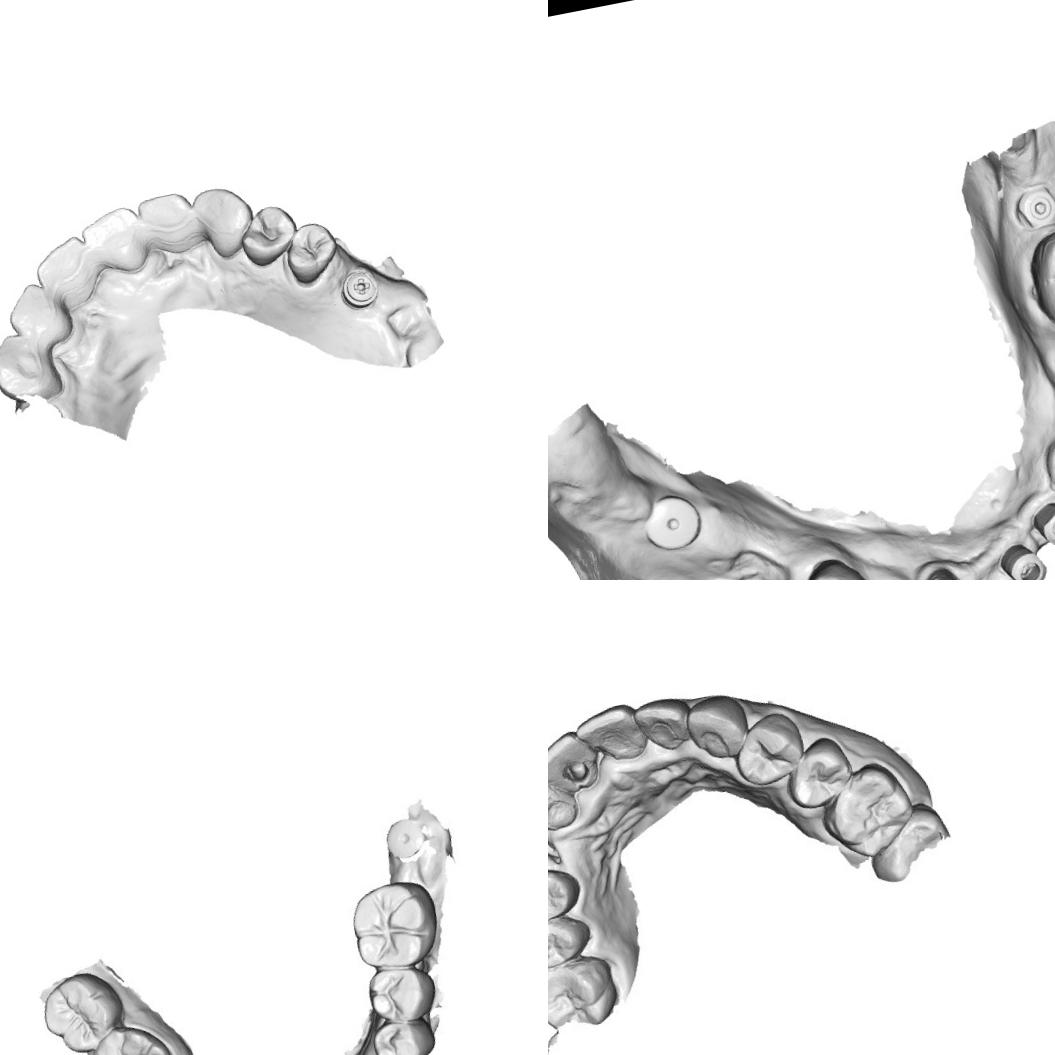canine: (185, 179, 260, 264), (0, 323, 66, 409), (684, 694, 755, 763), (912, 559, 1002, 580)
implant: (635, 486, 712, 560), (376, 808, 434, 867), (995, 534, 1053, 580), (1011, 179, 1055, 236), (1029, 501, 1055, 549)
implant_plus: (336, 264, 382, 312)
incisor: (74, 202, 151, 284), (28, 232, 101, 314), (0, 276, 76, 351), (132, 188, 202, 262), (576, 702, 648, 770), (632, 691, 692, 755), (548, 733, 598, 797), (548, 771, 577, 832)
molar: (816, 758, 920, 863), (342, 874, 447, 975), (33, 962, 133, 1055), (548, 951, 620, 1039), (1021, 218, 1055, 342), (85, 1015, 184, 1055)
premolar: (362, 959, 442, 1029), (734, 714, 807, 788), (232, 200, 304, 272), (280, 216, 344, 288), (788, 743, 855, 807), (548, 914, 595, 977), (368, 1013, 438, 1055), (548, 858, 585, 930), (790, 550, 874, 580)
